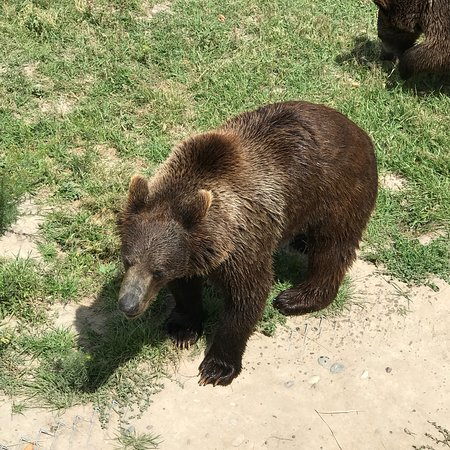bear: (117, 173, 216, 321)
